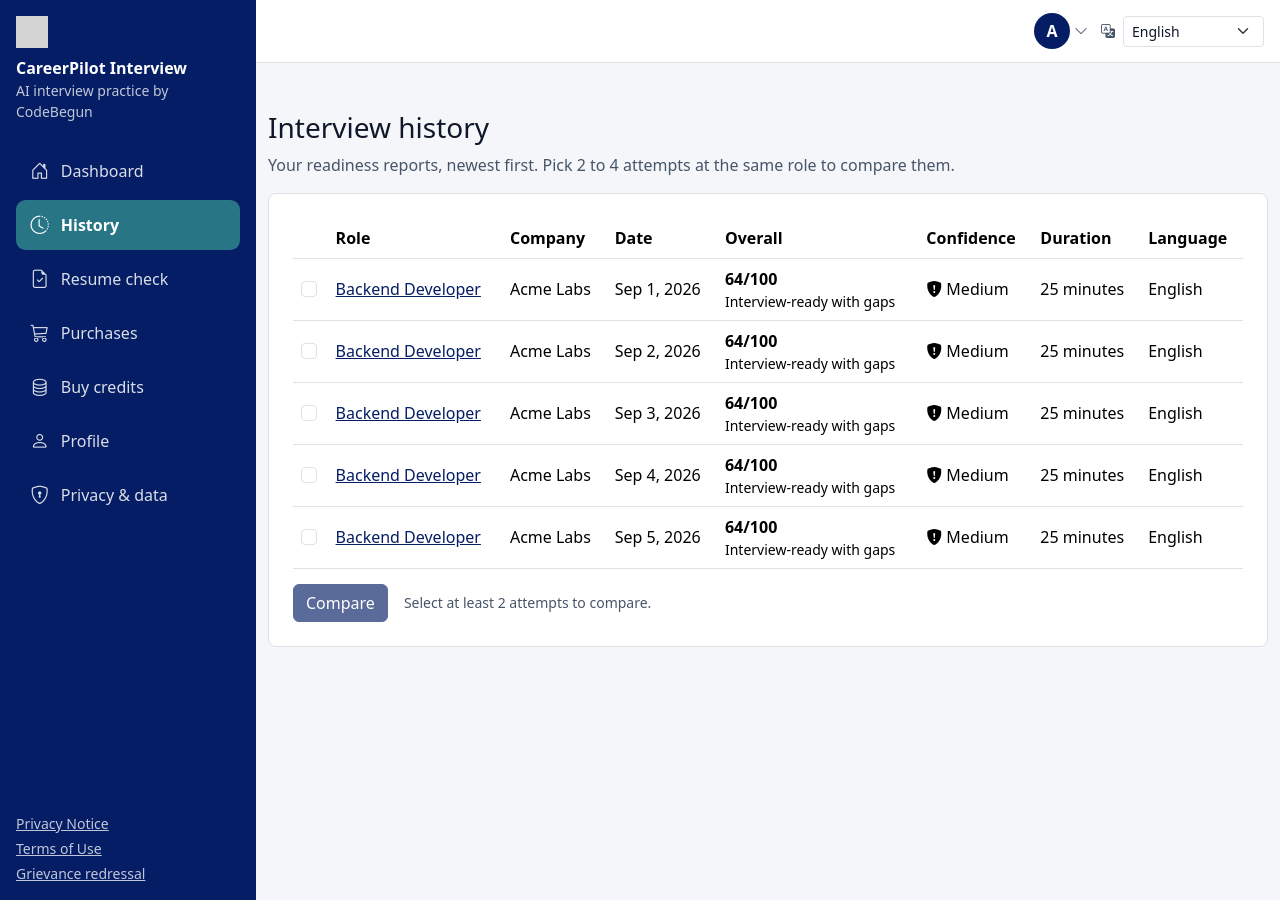
history › allows at most four attempts
Click the checkbox named "Select Backend Developer, Sep 1, 2026 to compare". click: [309, 289]
box: [301,281,317,297]
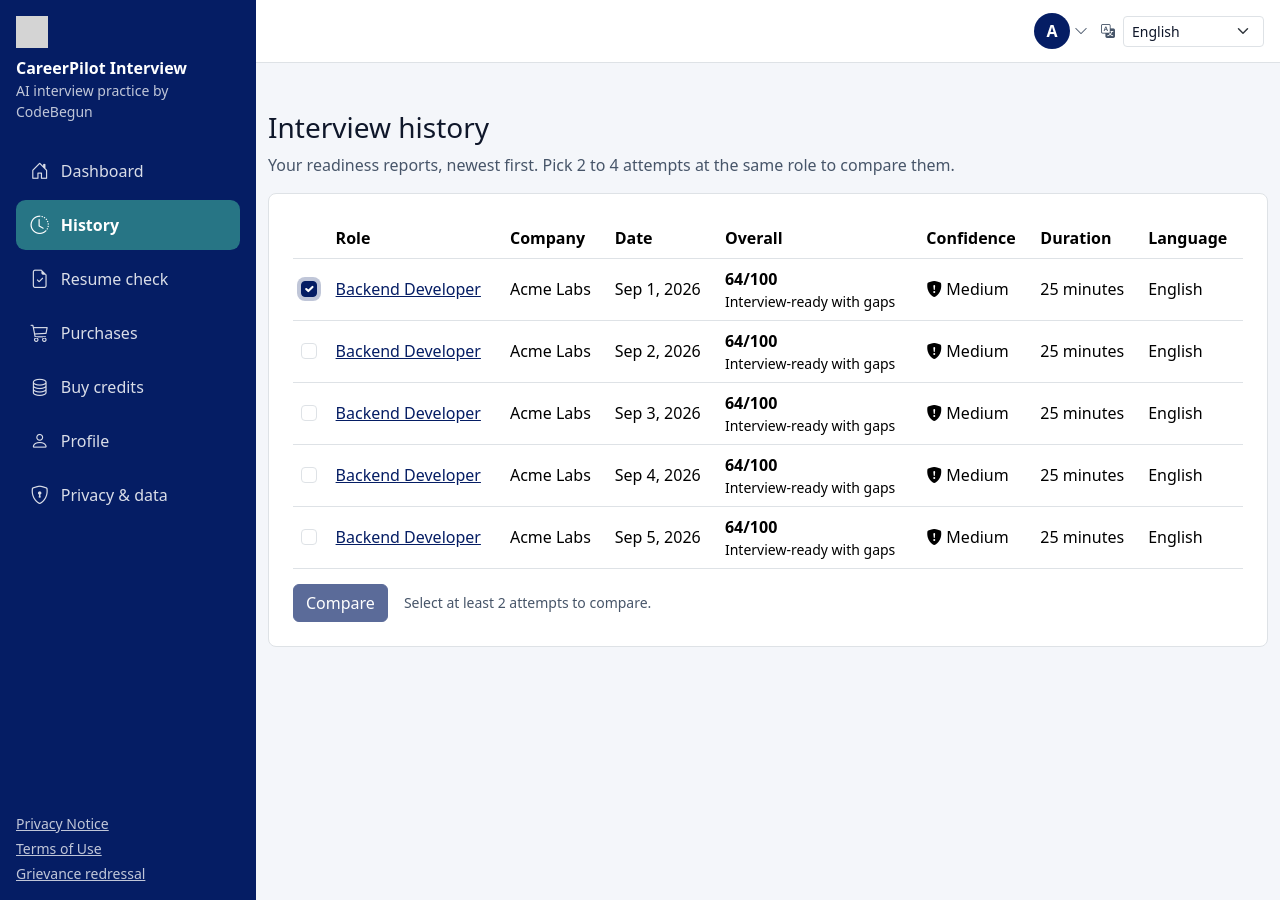
Click the checkbox named "Select Backend Developer, Sep 2, 2026 to compare". click: [309, 351]
box: [301,343,317,359]
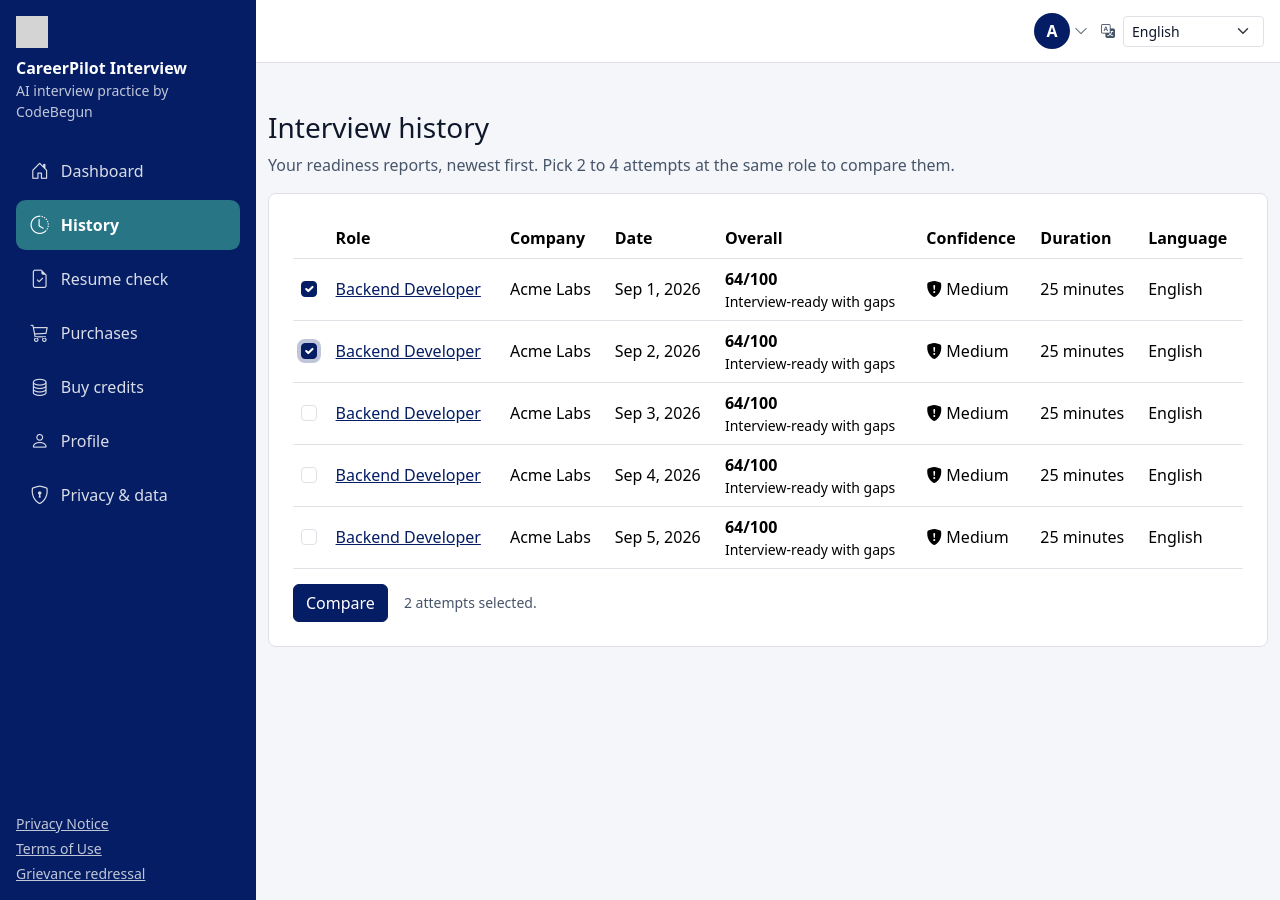
Click the checkbox named "Select Backend Developer, Sep 3, 2026 to compare". click: [309, 413]
box: [301,405,317,421]
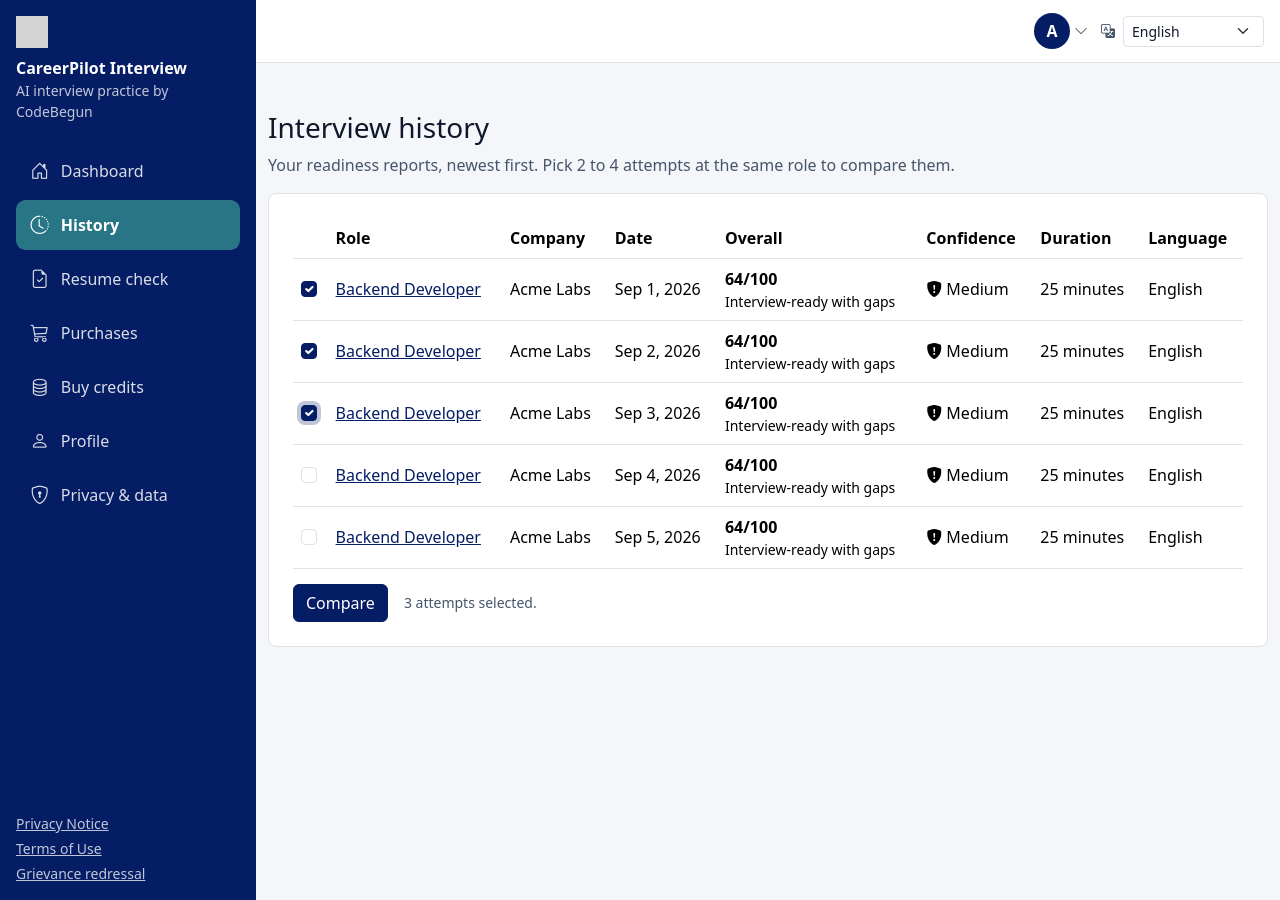
Click the checkbox named "Select Backend Developer, Sep 4, 2026 to compare". click: [309, 475]
box: [301,467,317,483]
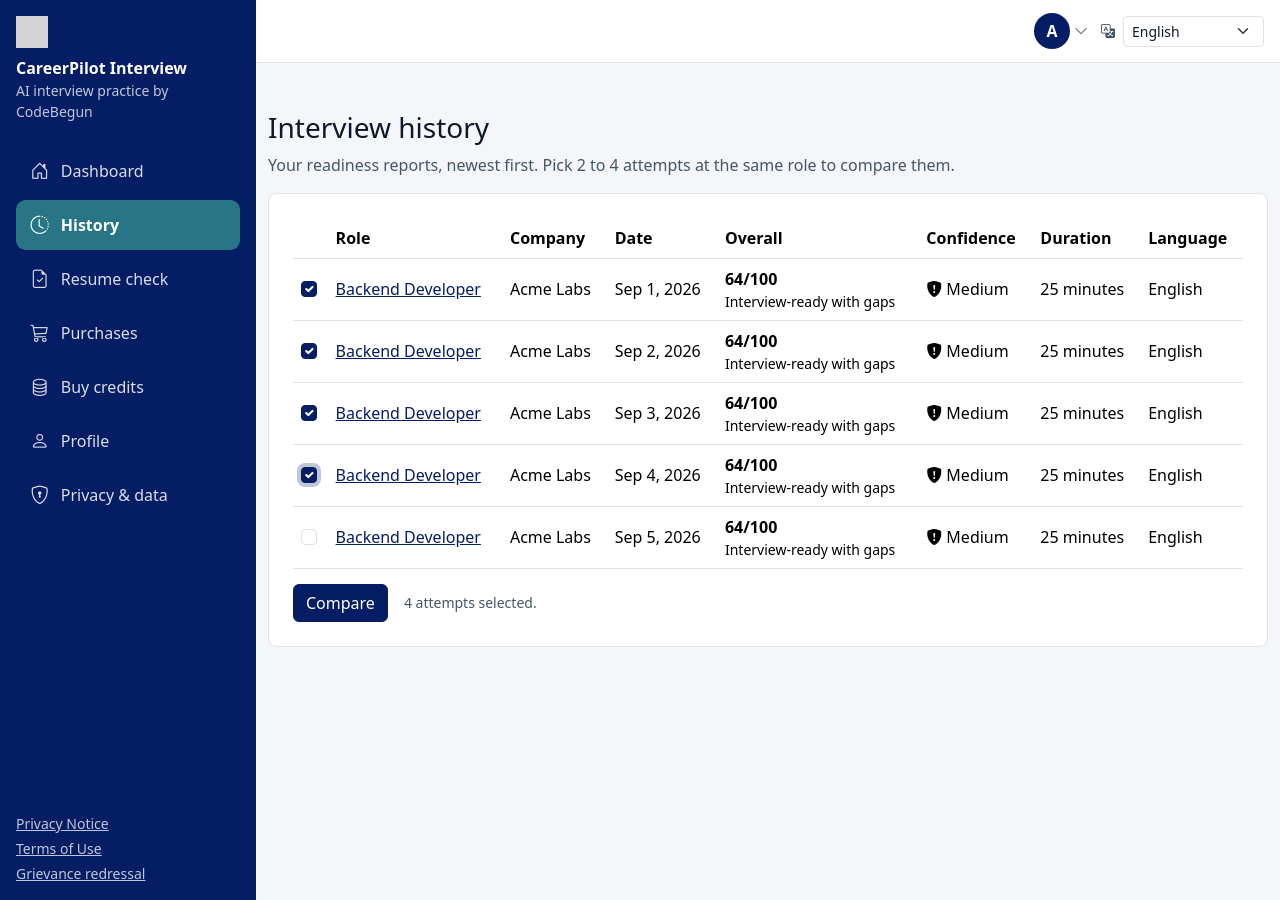
Click the checkbox named "Select Backend Developer, Sep 5, 2026 to compare". click: [309, 537]
box: [301,529,317,545]
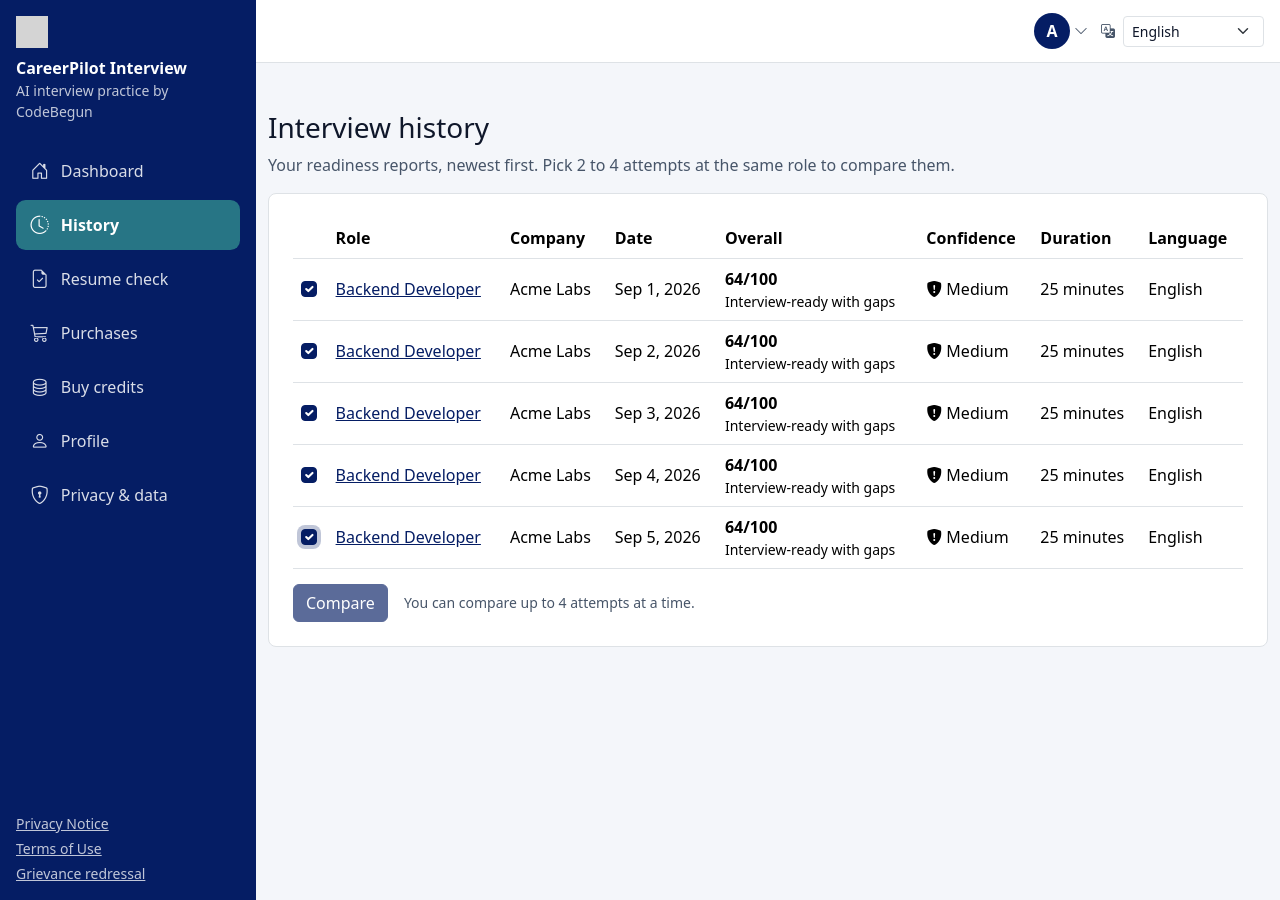
Result: the button "Compare" is disabled at [293,584,388,622]
